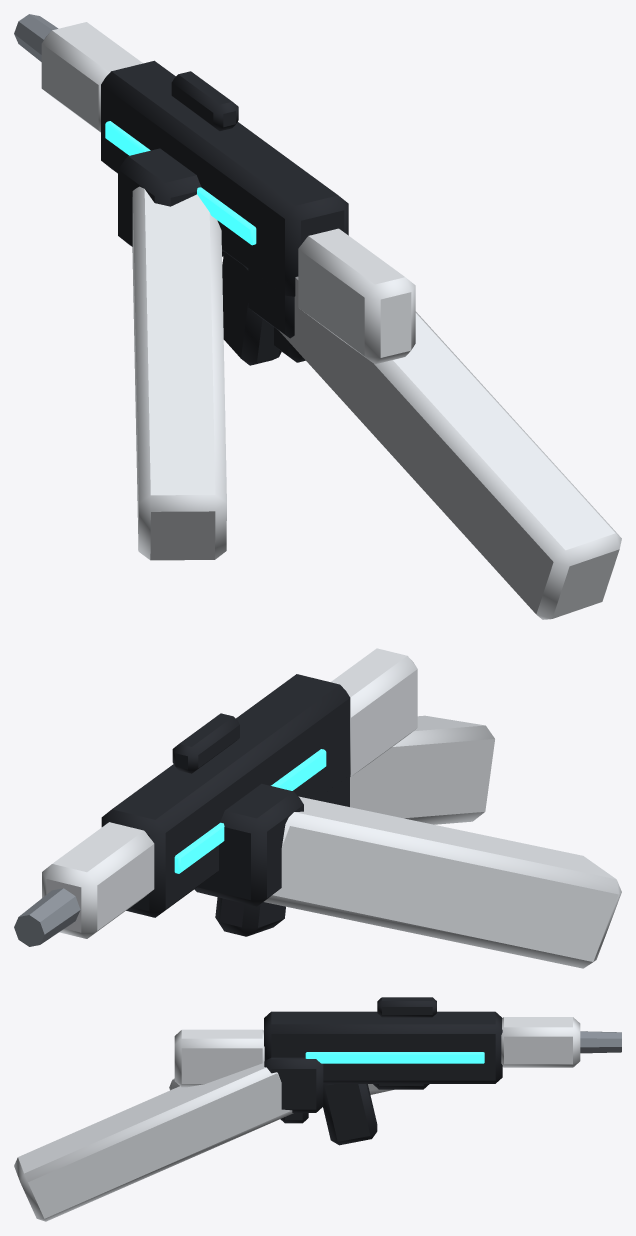
Rendered from weapon_vex.glb.
The picture shows the model from 3 angles, top to bottom: view 1: azimuth 30°, elevation 25°; view 2: azimuth 150°, elevation 25°; view 3: azimuth 270°, elevation 25°; orthographic projection. The views are drawn at different scales.
Parts seen in each view (by area): view 1: weapon; view 2: weapon; view 3: weapon.
Part boxes in pixels (bbox=[...]): weapon: bbox=[14, 14, 621, 619]; weapon: bbox=[14, 648, 621, 968]; weapon: bbox=[14, 997, 621, 1221].
Bounding box in the file's own units: 0.4062 × 0.3614 × 1.02.
